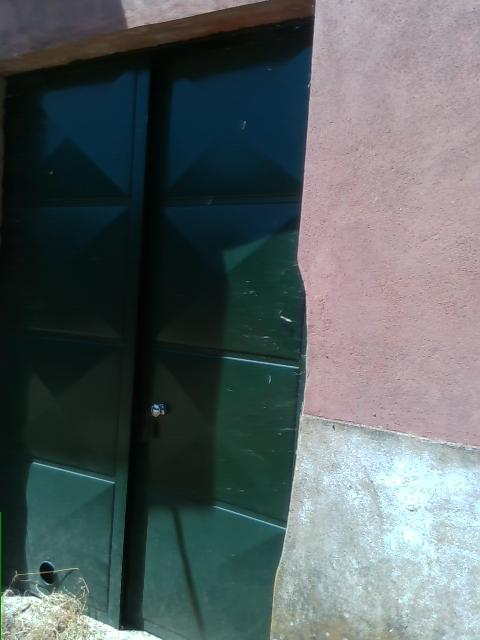door: (0, 20, 313, 639)
